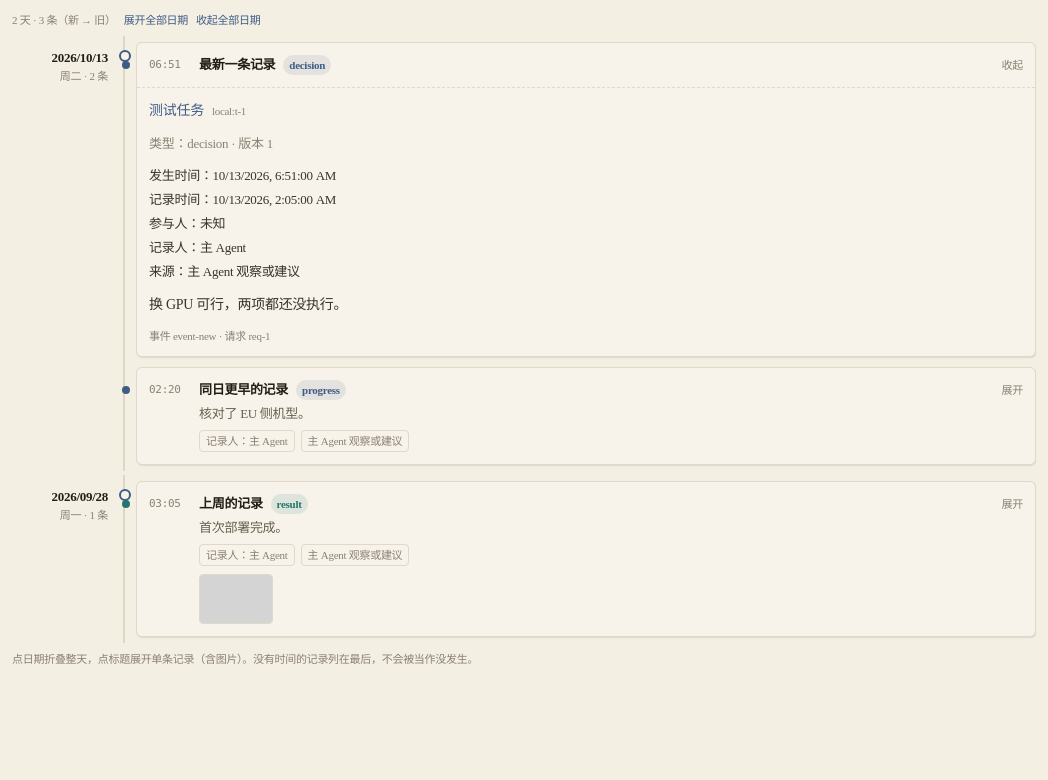
Test: 事件时间线展开与折叠 › 点日期折叠整天，展开全部日期可恢复
This screenshot has width=1048, height=780.
Click the button "2026/10/13 周二 · 2 条": (64, 60) 12,36 -> 116,84
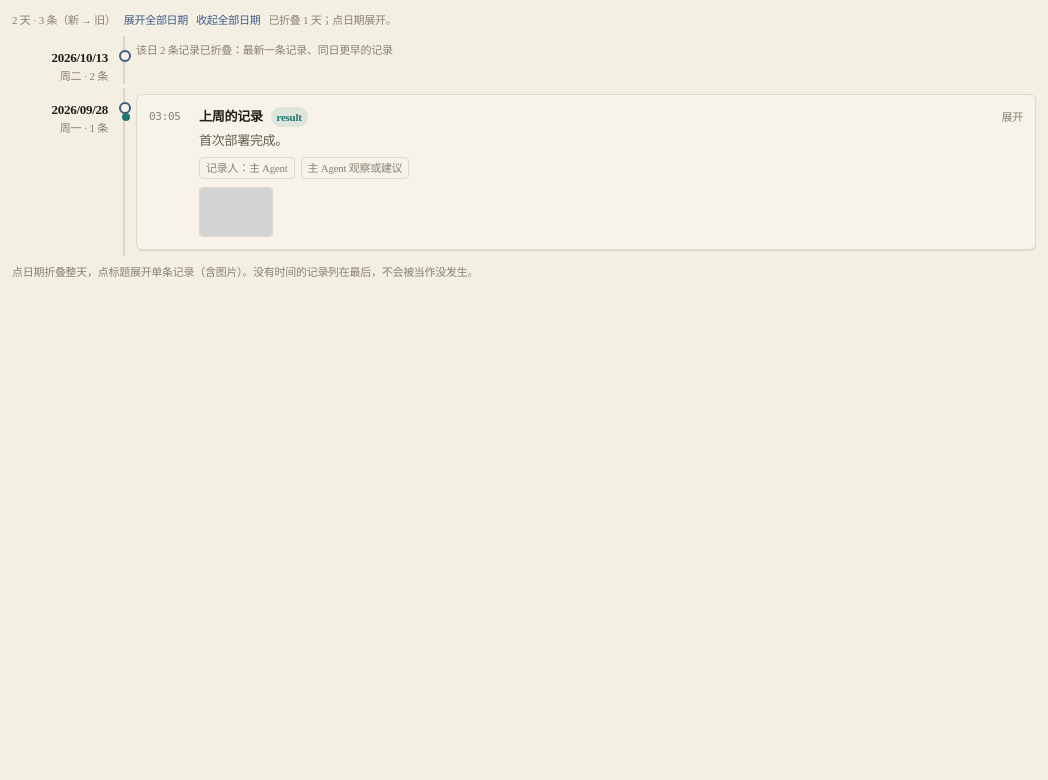
Expected: the text "事件 event-new · 请求 req-1" is gone
Expected: the text "该日 2 条记录已折叠：最新一条记录、同日更早的记录" is shown, 136,44 -> 393,56
Click the button "展开全部日期": (156, 20) 124,12 -> 188,28
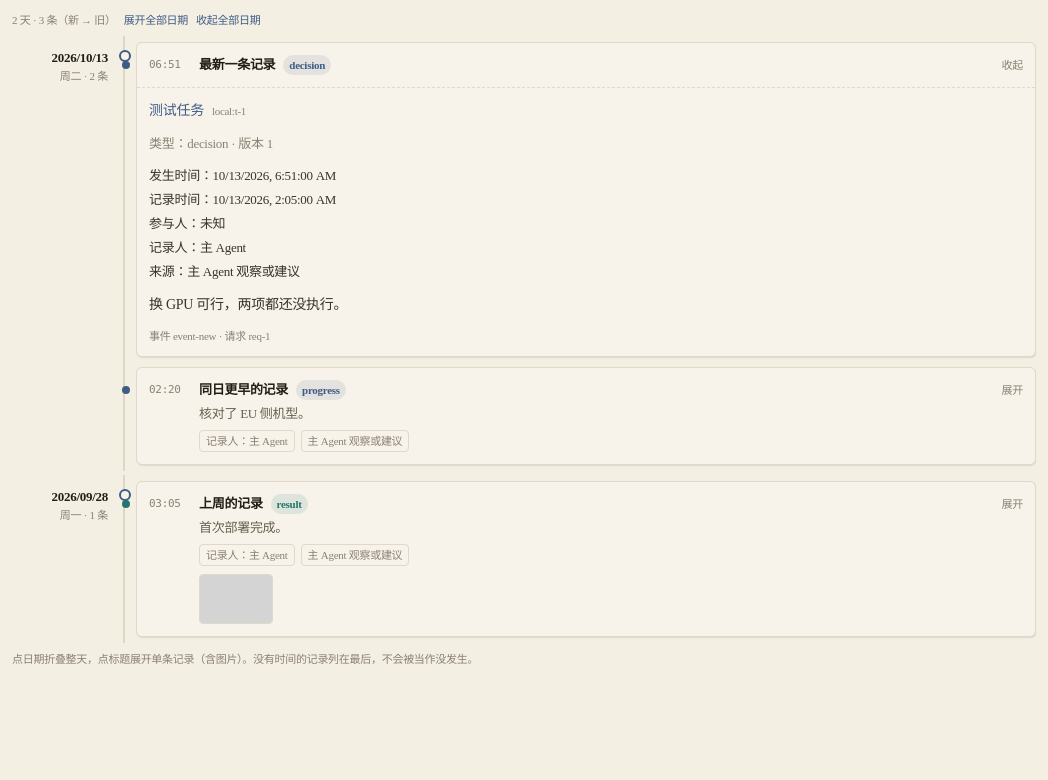
Expected: the text "事件 event-new · 请求 req-1" is shown, 149,330 -> 270,342
